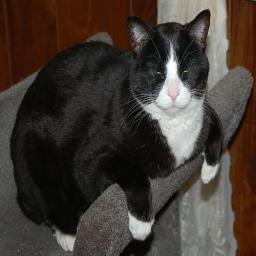catnose: (166, 78, 183, 103)
